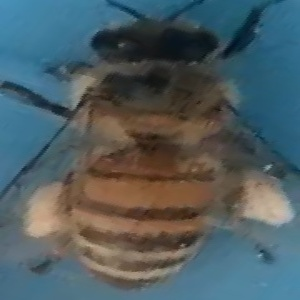bee: (13, 2, 300, 289)
